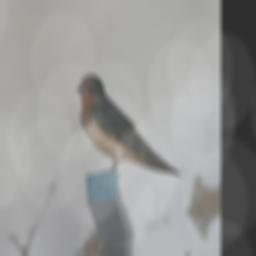Swallow: (72, 42, 183, 213)
